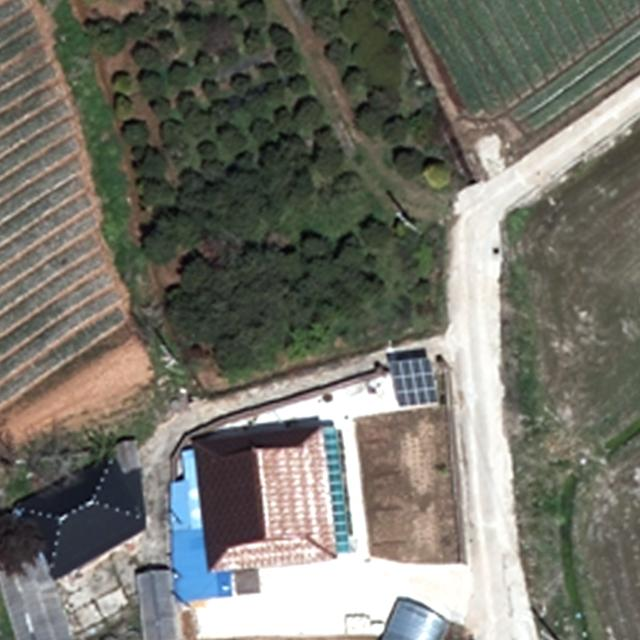panel: (391, 354, 448, 413)
